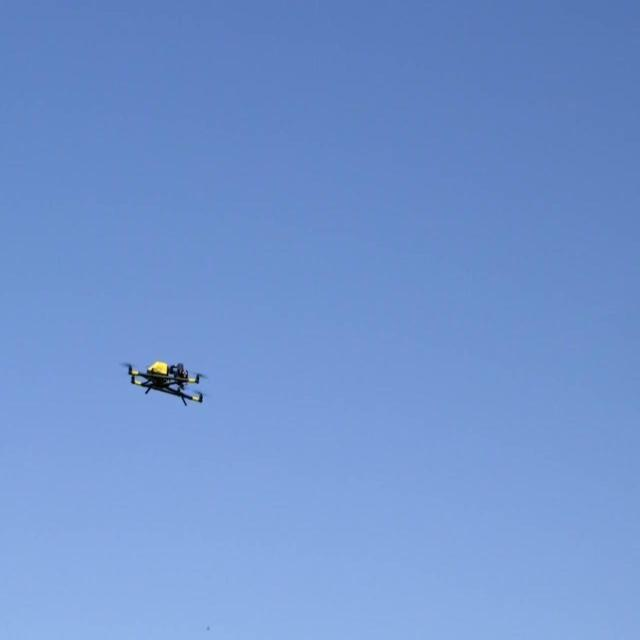drone: (119, 356, 212, 414)
